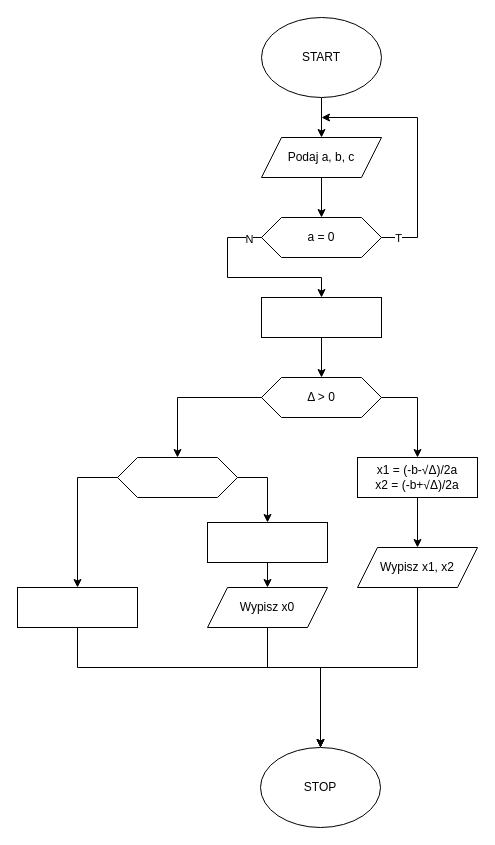
Some shapes in this 495 by 845 pixel diagram are drawn without their labels. The shapes that lost their labels are listed below. From the top down, each one's centre as x and y in pixels, then its label:
At point 321,317: "Δ = b 2 − 4 a c".
At point 177,477: "Δ = 0".
At point 267,542: "x0 = -b/2a".
At point 77,607: "Brak rozwiązań".
